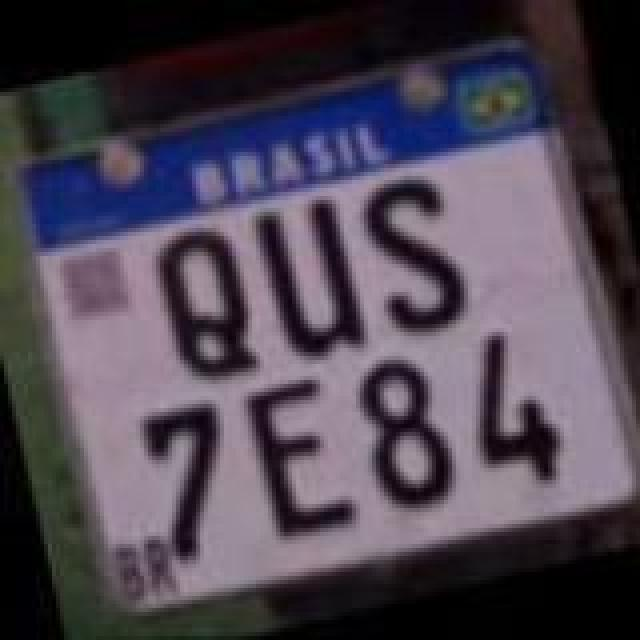4: (454, 318, 574, 494)
7: (128, 396, 244, 564)
8: (342, 342, 462, 514)
E: (234, 366, 362, 542)
Q: (146, 214, 270, 394)
S: (350, 162, 478, 342)
U: (248, 184, 376, 372)
